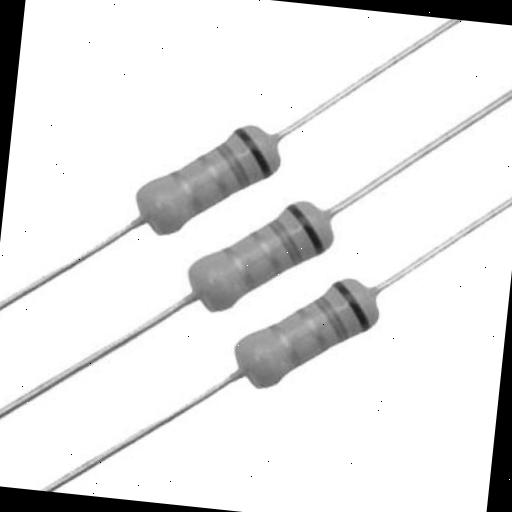RESISTOR: (56, 102, 307, 257), (229, 232, 430, 416), (156, 160, 358, 314)
